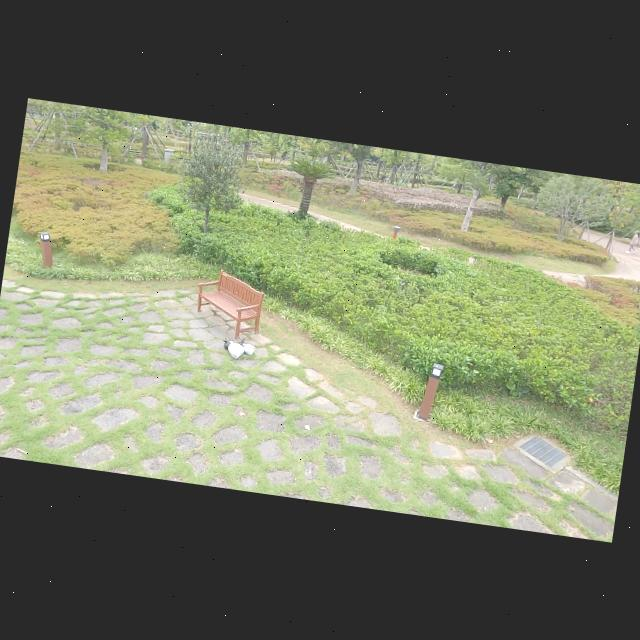trash: (228, 340, 245, 359), (242, 338, 257, 356)
